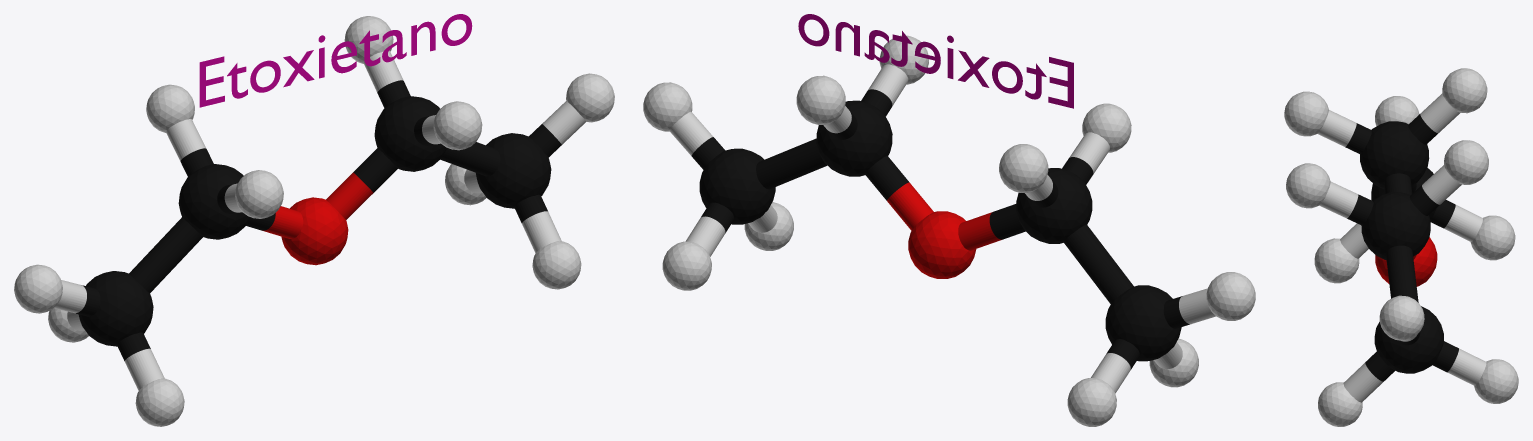
The model's file is etoxietano.obj.
The picture shows the model from 3 angles, left to right: view 1: azimuth 30°, elevation 25°; view 2: azimuth 150°, elevation 25°; view 3: azimuth 270°, elevation 25°; orthographic projection. The views are drawn at different scales.
Parts seen in each view (by area): view 1: Shape_IndexedFaceSet.039_Shape_IndexedFaceSet.430, Shape_IndexedFaceSet.033_Shape_IndexedFaceSet.429, Shape_IndexedFaceSet.051_Shape_IndexedFaceSet.431, Text_Text.053; view 2: Shape_IndexedFaceSet.039_Shape_IndexedFaceSet.430, Shape_IndexedFaceSet.033_Shape_IndexedFaceSet.429, Shape_IndexedFaceSet.051_Shape_IndexedFaceSet.431, Text_Text.053; view 3: Shape_IndexedFaceSet.033_Shape_IndexedFaceSet.429, Shape_IndexedFaceSet.039_Shape_IndexedFaceSet.430, Shape_IndexedFaceSet.051_Shape_IndexedFaceSet.431.
Boxes of the visible parts, x1,y1,x2,y2 form: Shape_IndexedFaceSet.039_Shape_IndexedFaceSet.430: [76, 80, 561, 360]; Shape_IndexedFaceSet.033_Shape_IndexedFaceSet.429: [14, 16, 614, 426]; Shape_IndexedFaceSet.051_Shape_IndexedFaceSet.431: [262, 172, 373, 265]; Text_Text.053: [199, 14, 472, 107]; Shape_IndexedFaceSet.039_Shape_IndexedFaceSet.430: [691, 89, 1189, 369]; Shape_IndexedFaceSet.033_Shape_IndexedFaceSet.429: [643, 35, 1255, 426]; Shape_IndexedFaceSet.051_Shape_IndexedFaceSet.431: [887, 182, 1001, 278]; Text_Text.053: [798, 14, 1073, 108]; Shape_IndexedFaceSet.033_Shape_IndexedFaceSet.429: [1284, 68, 1518, 426]; Shape_IndexedFaceSet.039_Shape_IndexedFaceSet.430: [1345, 114, 1458, 381]; Shape_IndexedFaceSet.051_Shape_IndexedFaceSet.431: [1375, 237, 1437, 286].
Size of the model in its own units: 45.71 by 23.67 by 16.82.
